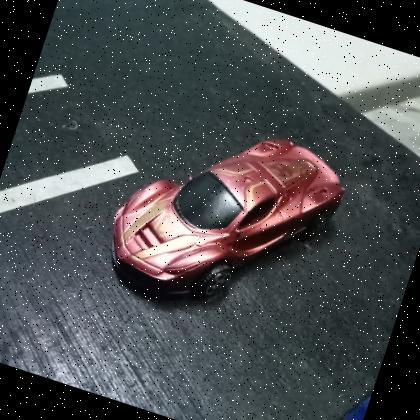Car: (112, 140, 344, 301)
